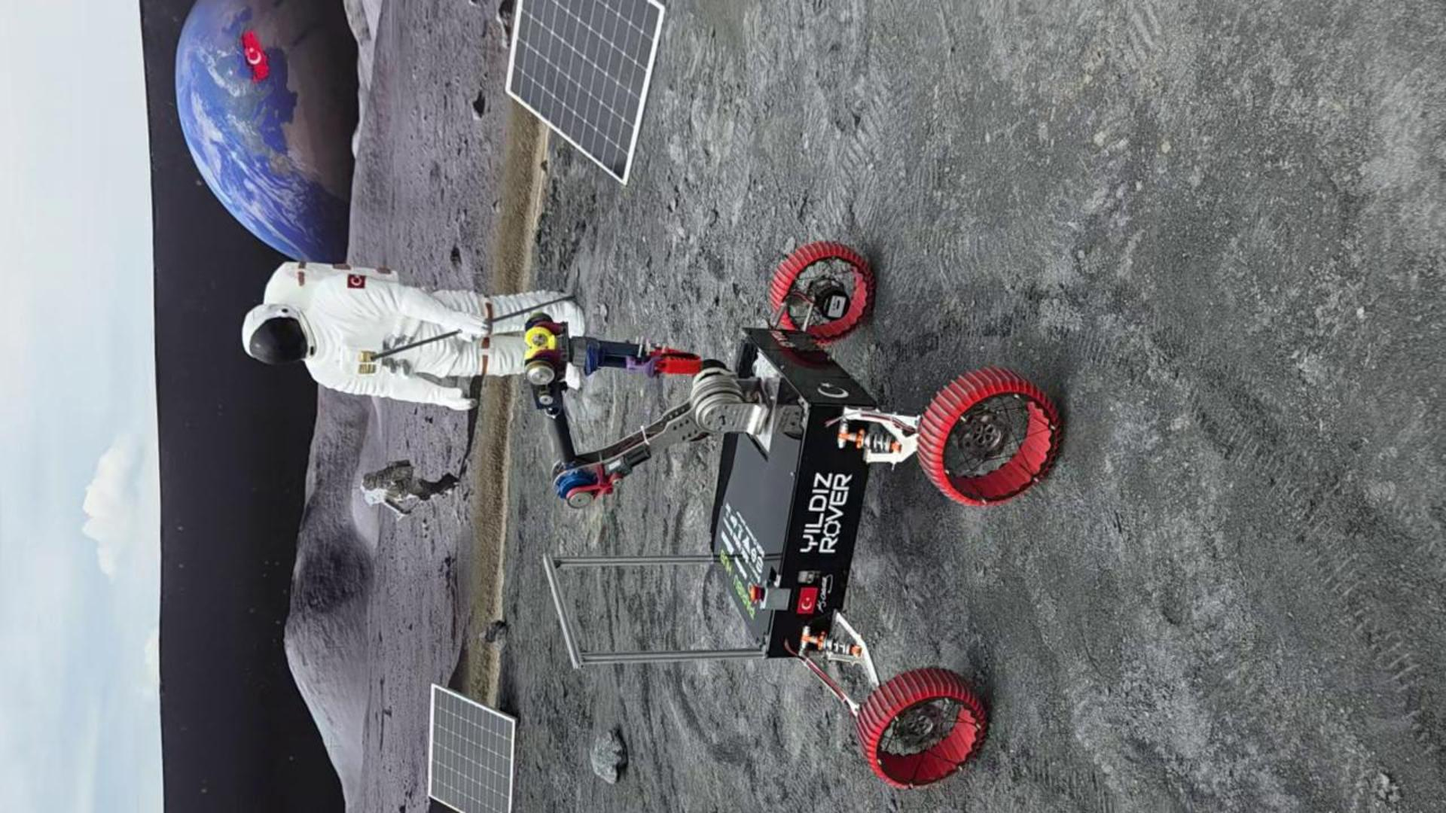rock: (590, 728, 627, 784)
